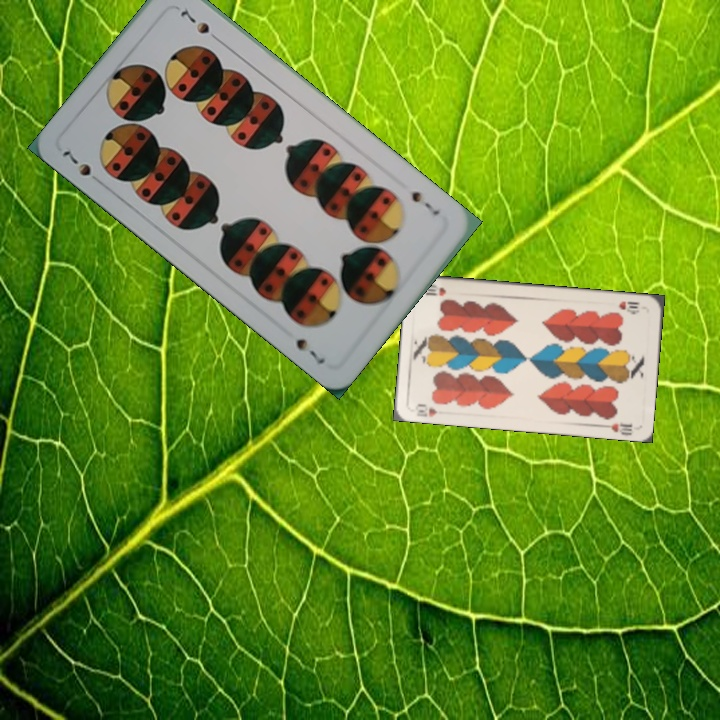H10: (615, 297, 642, 316), (413, 400, 440, 419)
S7: (58, 146, 107, 189), (407, 186, 443, 218)
